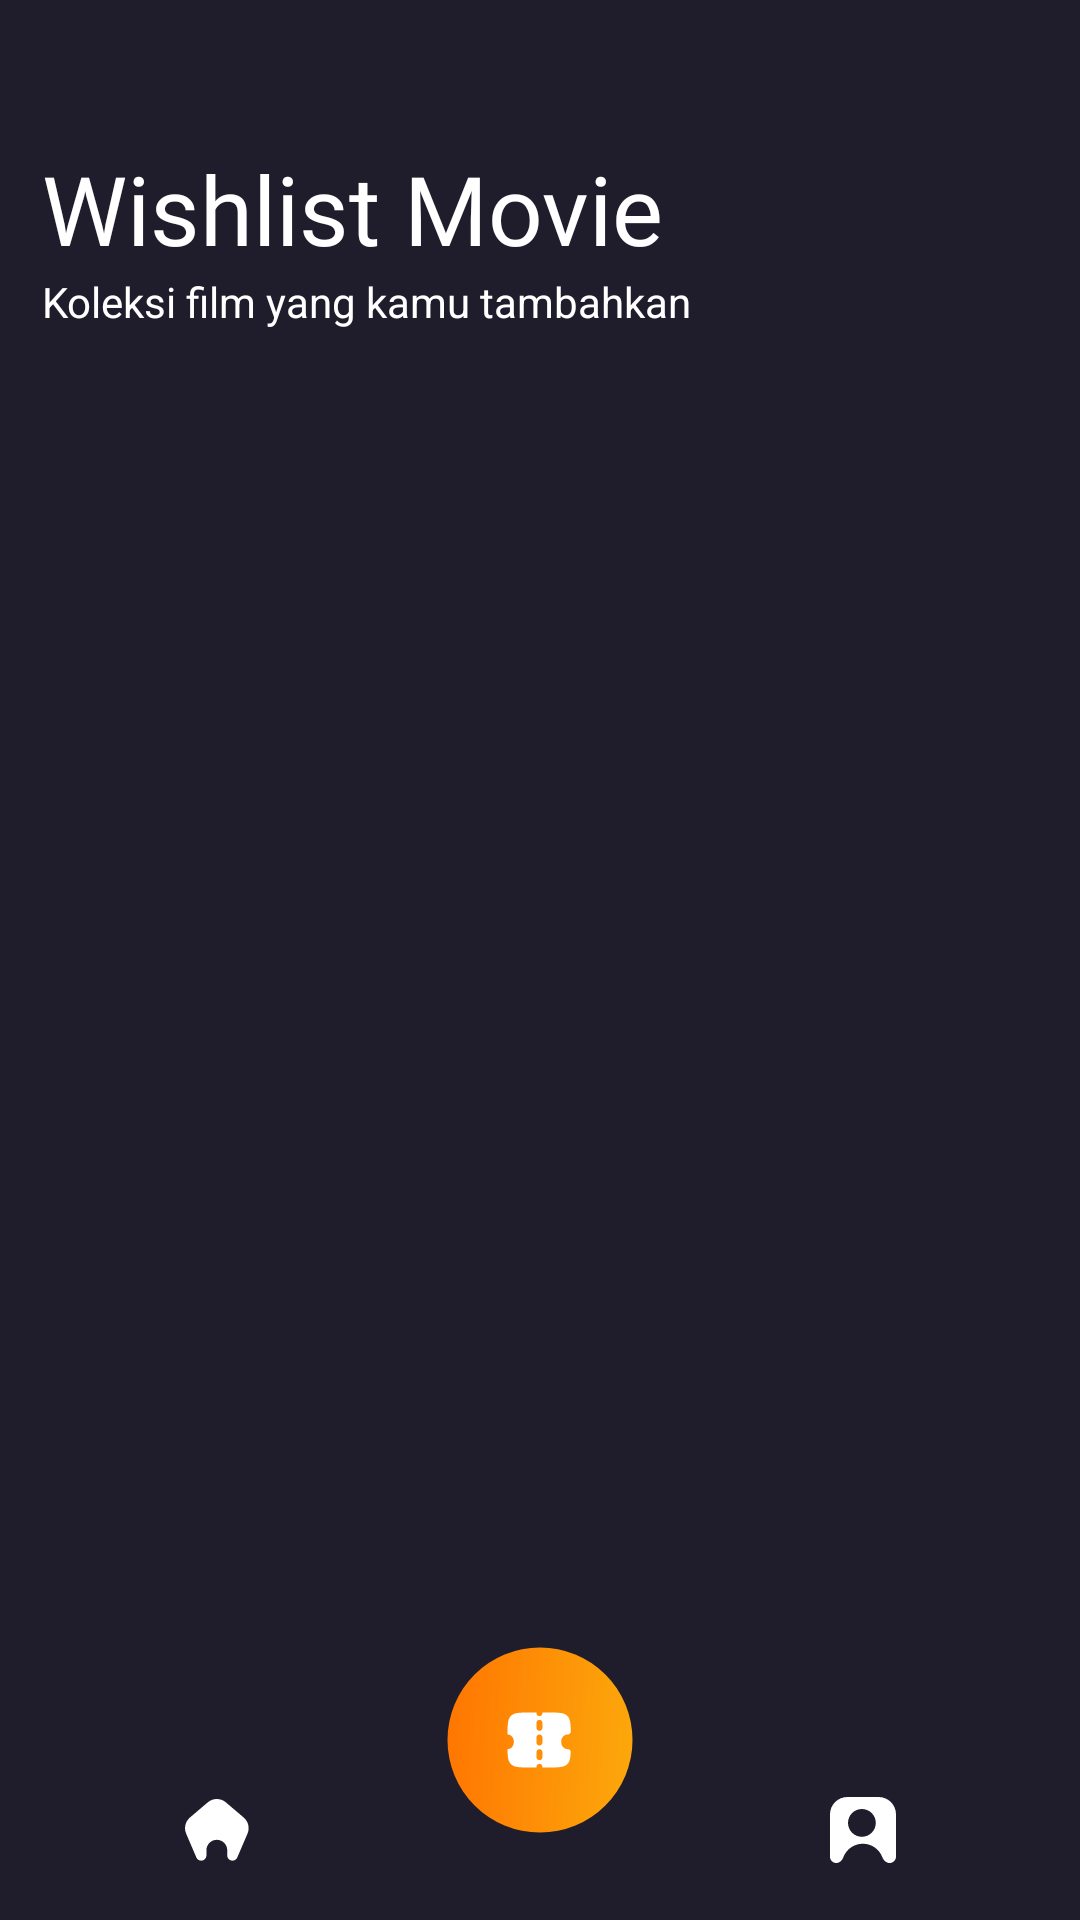

Screen size 1080px×1920px. Icon name, then its center in pixels as [x,y]:
home: [217,1830]
movie: [540,1740]
user profil: [863,1830]
